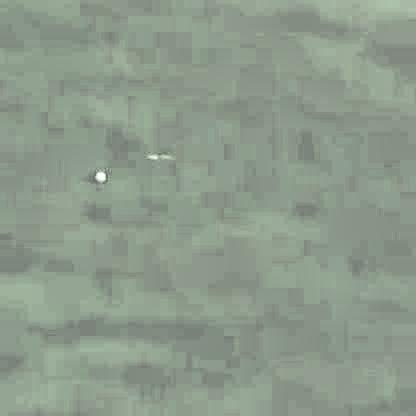golfball: (92, 170, 105, 181)
